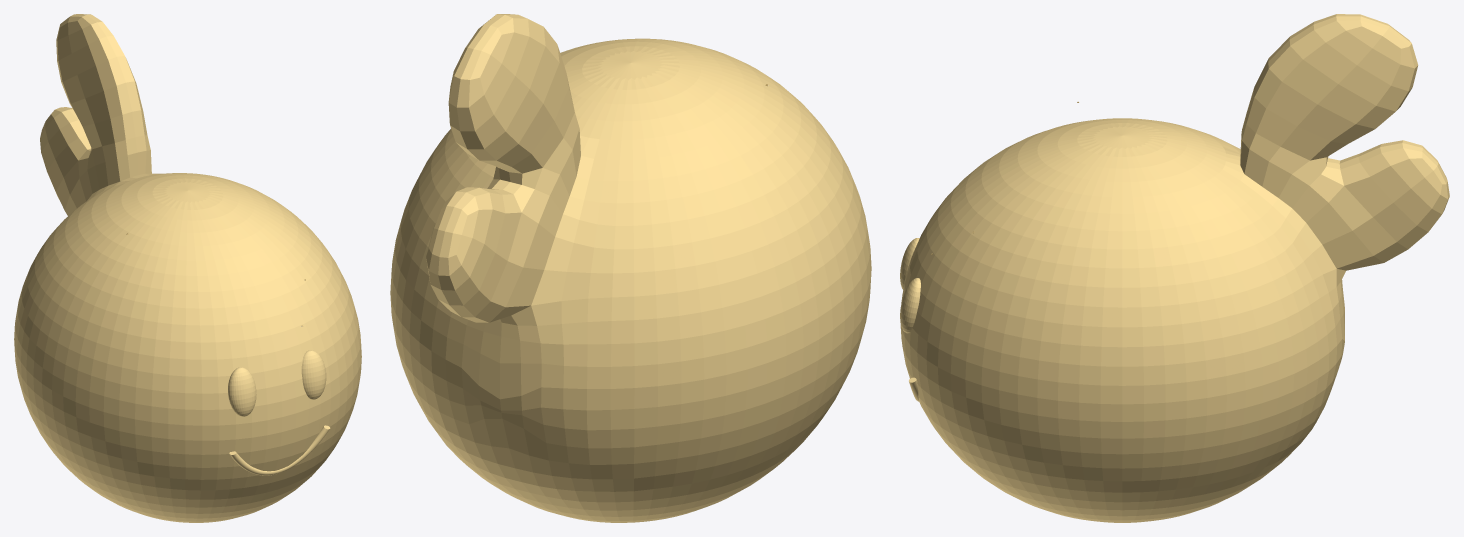
The model's file is wkwk_gold.glb.
3 renders of one model, left to right at view 1: azimuth 30°, elevation 25°; view 2: azimuth 150°, elevation 25°; view 3: azimuth 270°, elevation 25°, orthographic. The views are drawn at different scales.
Visible parts, largest first — view 1: 球, 球.001, NURBSカーブ; view 2: 球; view 3: 球, 球.001.
Boxes of the visible parts, <box> form: 球: <box>14,14,361,522</box>; 球.001: <box>228,350,326,416</box>; NURBSカーブ: <box>229,425,330,475</box>; 球: <box>390,14,871,522</box>; 球: <box>900,14,1449,522</box>; 球.001: <box>900,238,920,333</box>.
Size of the model in its own units: 2.67 by 3.64 by 3.7.
Materials: 3 (1 with a texture image).
